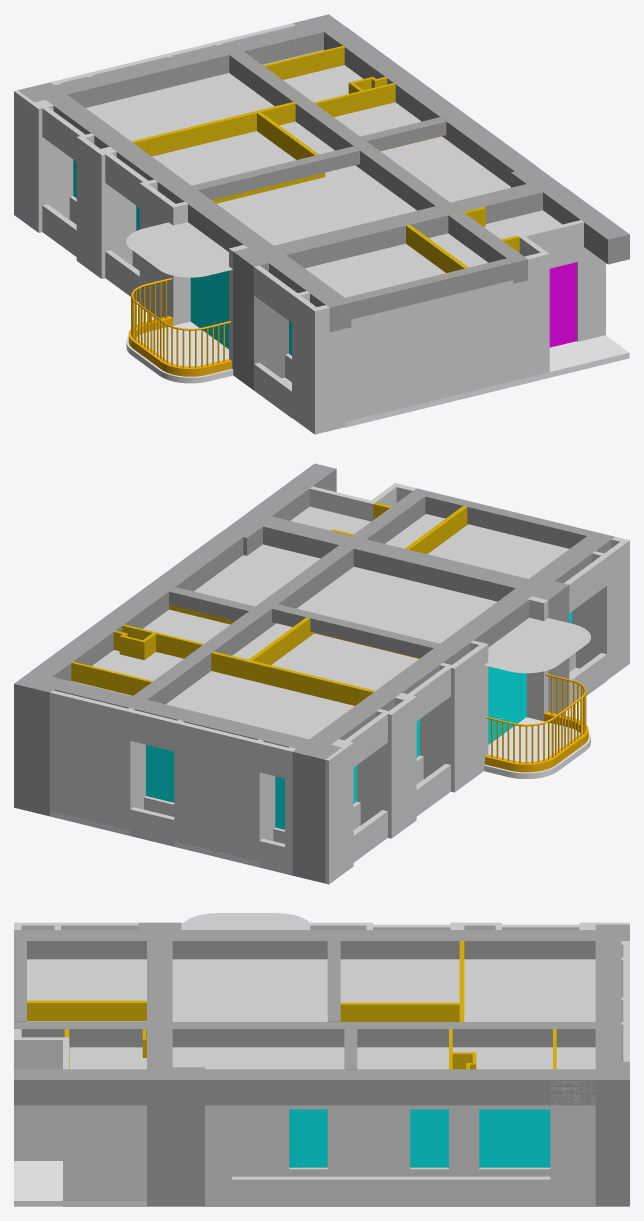
The picture shows the model from 3 angles, top to bottom: view 1: azimuth 30°, elevation 25°; view 2: azimuth 150°, elevation 25°; view 3: azimuth 270°, elevation 25°; orthographic projection. The views are drawn at different scales.
Bounding box in the file's own units: 10.19 × 3.25 × 14.32.
